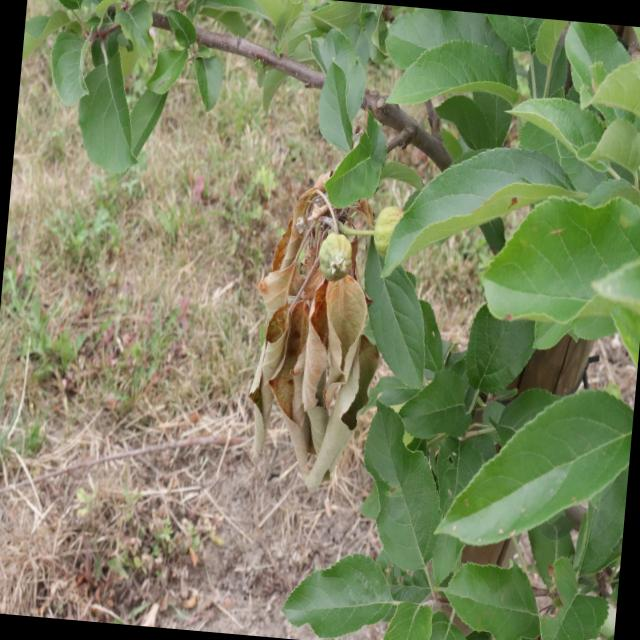-FireBlight-: (248, 182, 374, 472)
